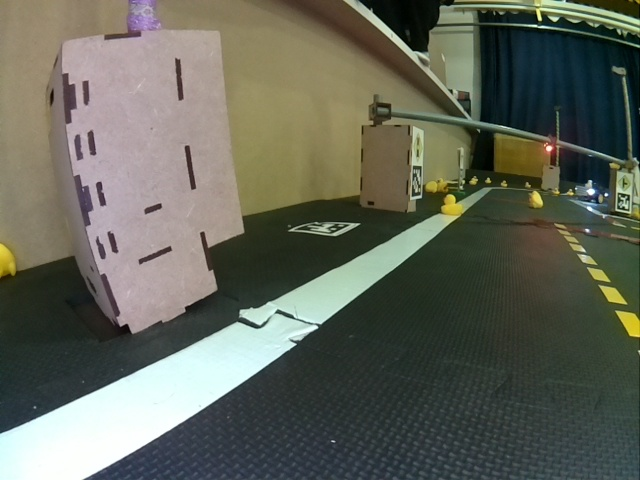Duckie: (1, 242, 16, 277), (442, 194, 462, 214), (529, 192, 542, 208), (552, 188, 560, 198), (488, 177, 494, 187), (504, 182, 510, 190), (568, 193, 577, 198)
Intersection sign: (619, 176, 632, 191)
QR code: (289, 222, 361, 236), (412, 166, 420, 196), (620, 195, 629, 212)
Signal sign: (413, 134, 422, 162)
Traffic light: (545, 143, 553, 153)
